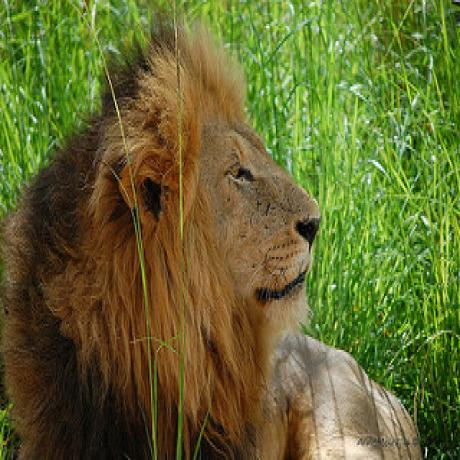Lion: (0, 0, 418, 460)
